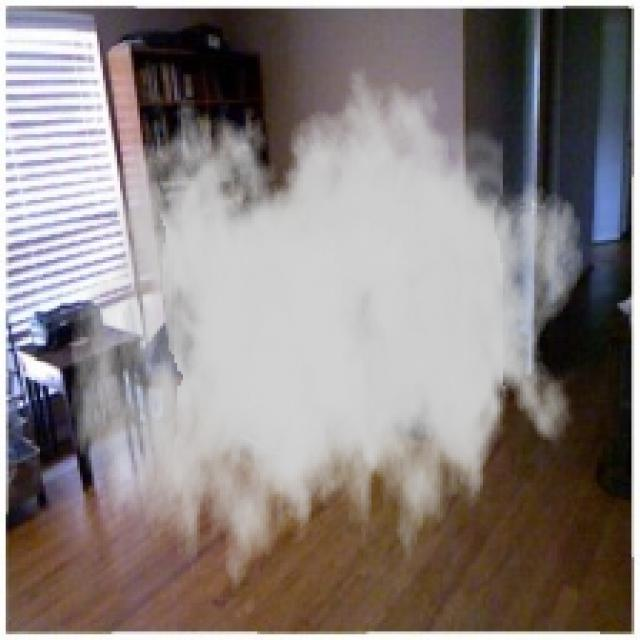smoke: (69, 57, 586, 617)
